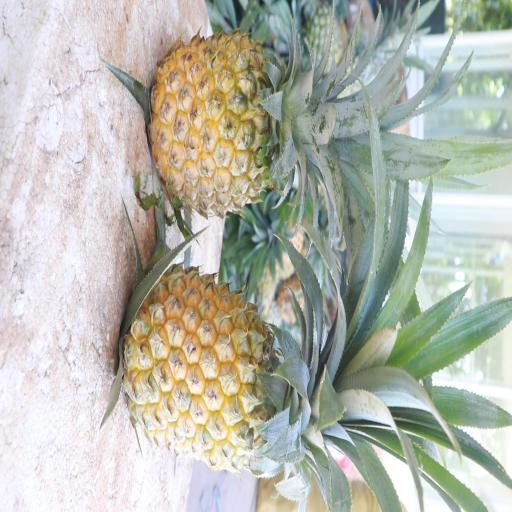Pineapple - v8 v1: (117, 264, 371, 478), (146, 27, 352, 227)
